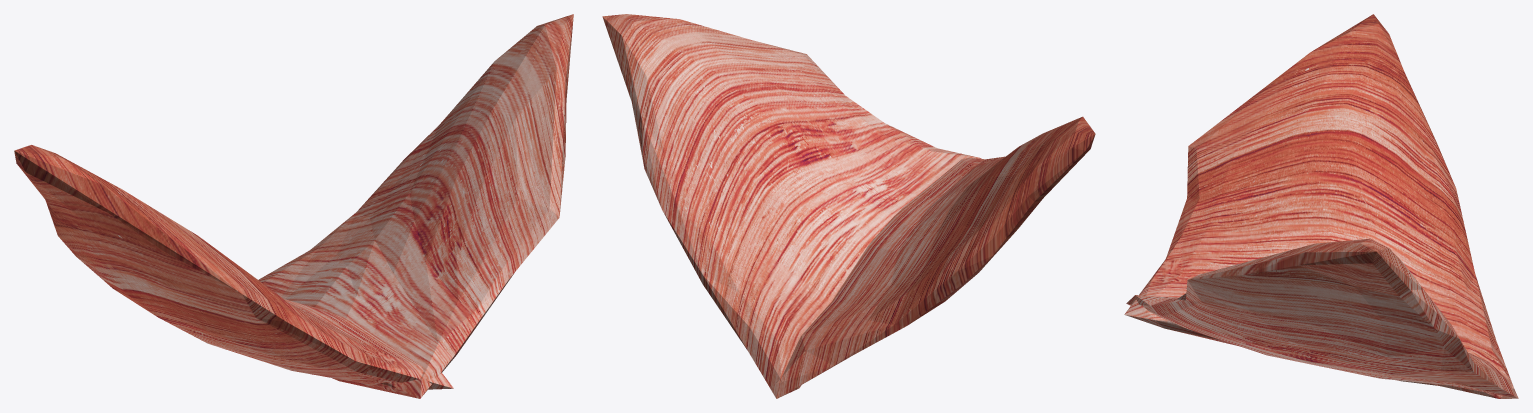
File: Mylohyoid.obj
3 views of the same model, side by side, from view 1: azimuth 30°, elevation 25°; view 2: azimuth 150°, elevation 25°; view 3: azimuth 270°, elevation 25° (orthographic). The views are drawn at different scales.
Parts seen in each view (by area): view 1: Musculos_Cabeza_1:Mylohyoid:Mylohyoid; view 2: Musculos_Cabeza_1:Mylohyoid:Mylohyoid; view 3: Musculos_Cabeza_1:Mylohyoid:Mylohyoid.
Part boxes in pixels (<box>): Musculos_Cabeza_1:Mylohyoid:Mylohyoid: <box>14,14,573,398</box>; Musculos_Cabeza_1:Mylohyoid:Mylohyoid: <box>602,14,1095,398</box>; Musculos_Cabeza_1:Mylohyoid:Mylohyoid: <box>1124,14,1518,398</box>.
Bounding box in the file's own units: 0.2794 × 0.1472 × 0.1971.
1 material, 1 textured.
